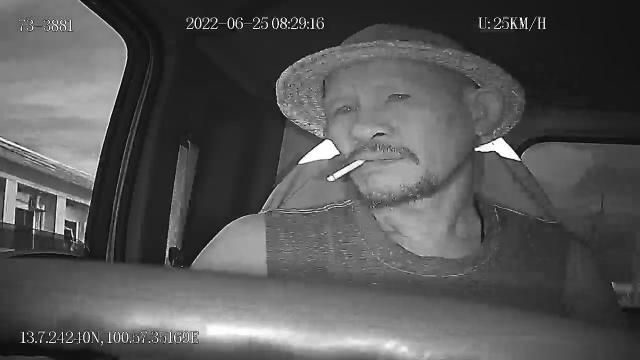SafeDriving: (332, 98, 362, 120)
Smoking: (326, 158, 366, 182)
